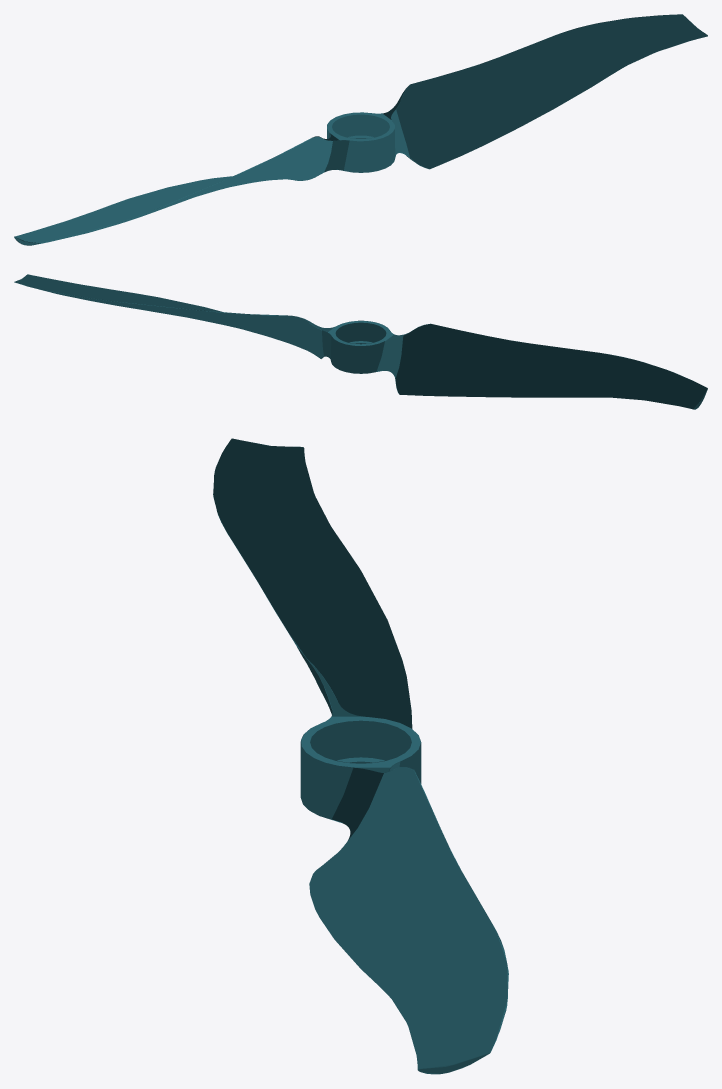
Rendered from default_propeller_3x2_cw.dae.
3 renders of one model, top to bottom at view 1: azimuth 30°, elevation 25°; view 2: azimuth 150°, elevation 25°; view 3: azimuth 270°, elevation 25°, orthographic. The views are drawn at different scales.
Parts seen in each view (by area): view 1: node0; view 2: node0; view 3: node0.
Part boxes in pixels (x1,y1,x2,y2): node0: [14, 14, 707, 245]; node0: [14, 274, 707, 409]; node0: [213, 438, 508, 1074].
Size of the model in its own units: 75.97 by 15.26 by 6.3.
